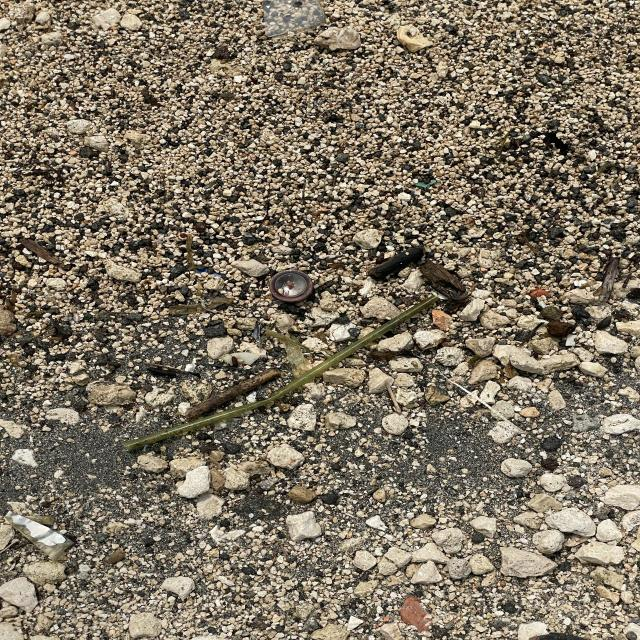plastic_waste: (120, 292, 443, 457)
